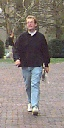person: (16, 15, 50, 115)
